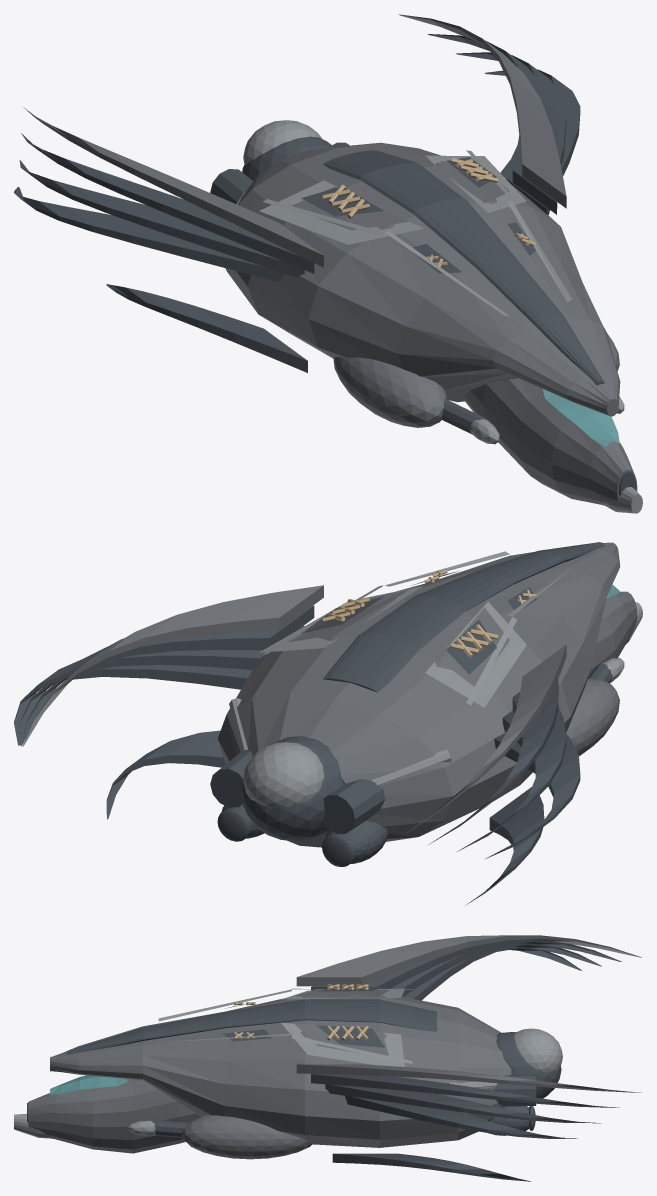
The model's file is thrill_obsidian_off.glb.
The picture shows the model from 3 angles, top to bottom: view 1: azimuth 30°, elevation 25°; view 2: azimuth 150°, elevation 25°; view 3: azimuth 270°, elevation 25°; orthographic projection. The views are drawn at different scales.
Parts seen in each view (by area): view 1: hull_0, hull_1, hull_2, wing_R_pivot_blade0, wing_L_pivot_blade0, wing_L_pivot_blade2, wing_L_pivot_blade1, wing_L_pivot_blade3, fin_L_pivot_blade1, wing_R_pivot_blade1, hull_3, wing_R_pivot_blade2 (+2 smaller); view 2: hull_0, hull_1, hull_2, wing_R_pivot_blade0, wing_R_pivot_blade1, wing_R_pivot_blade3, wing_L_pivot_blade0, wing_R_pivot_blade2, fin_R_pivot_blade1, fin_L_pivot_blade1, wing_L_pivot_blade1, wing_L_pivot_blade2 (+2 smaller); view 3: hull_0, hull_1, hull_2, wing_L_pivot_blade0, wing_R_pivot_blade1, wing_R_pivot_blade0, wing_R_pivot_blade2, wing_R_pivot_blade3, fin_R_pivot_blade1, wing_L_pivot_blade1, wing_L_pivot_blade2, wing_L_pivot_blade3 (+2 smaller).
Part boxes in pixels (x1,y1,x2,y2): hull_0: [225, 142, 637, 505]; hull_1: [210, 136, 636, 495]; hull_2: [236, 120, 642, 513]; wing_R_pivot_blade0: [399, 14, 566, 208]; wing_L_pivot_blade0: [23, 107, 323, 267]; wing_L_pivot_blade2: [19, 160, 304, 277]; wing_L_pivot_blade1: [21, 133, 314, 273]; wing_L_pivot_blade3: [14, 187, 284, 282]; fin_L_pivot_blade1: [106, 284, 307, 372]; wing_R_pivot_blade1: [427, 34, 558, 214]; hull_3: [542, 389, 619, 447]; wing_R_pivot_blade2: [456, 52, 566, 214]; hull_0: [217, 542, 637, 847]; hull_1: [210, 542, 612, 866]; hull_2: [229, 551, 642, 808]; wing_R_pivot_blade0: [22, 585, 323, 746]; wing_R_pivot_blade1: [21, 605, 314, 746]; wing_R_pivot_blade3: [14, 660, 252, 745]; wing_L_pivot_blade0: [400, 644, 566, 837]; wing_R_pivot_blade2: [19, 626, 304, 745]; fin_R_pivot_blade1: [106, 730, 225, 819]; fin_L_pivot_blade1: [465, 787, 544, 905]; wing_L_pivot_blade1: [428, 679, 558, 844]; wing_L_pivot_blade2: [457, 706, 566, 851]; hull_0: [28, 989, 511, 1159]; hull_1: [27, 986, 561, 1137]; hull_2: [14, 988, 562, 1138]; wing_L_pivot_blade0: [296, 935, 641, 986]; wing_R_pivot_blade1: [311, 1074, 619, 1107]; wing_R_pivot_blade0: [296, 1064, 641, 1092]; wing_R_pivot_blade2: [325, 1084, 601, 1123]; wing_R_pivot_blade3: [345, 1095, 577, 1138]; fin_R_pivot_blade1: [332, 1153, 531, 1181]; wing_L_pivot_blade1: [311, 939, 621, 990]; wing_L_pivot_blade2: [390, 943, 601, 996]; wing_L_pivot_blade3: [404, 946, 581, 1000].
Size of the model in its own units: 3.07 by 1.12 by 4.39.
